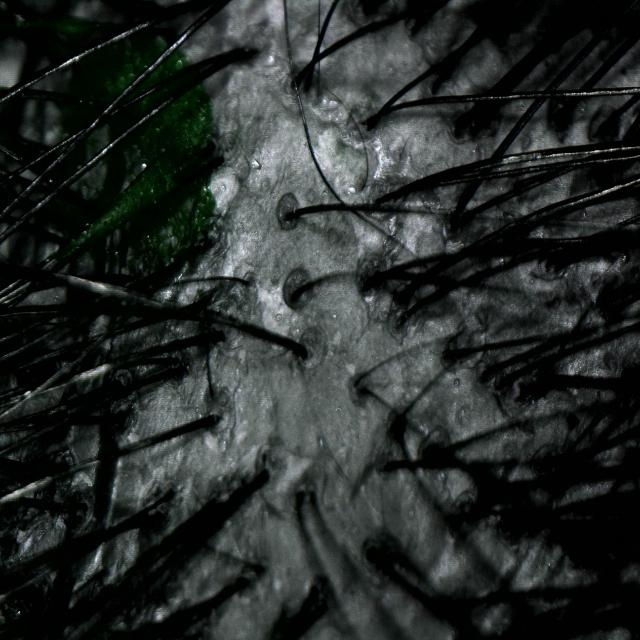roots: (359, 531, 382, 565), (109, 406, 133, 437), (157, 480, 179, 508), (253, 462, 273, 492), (374, 453, 398, 478), (290, 484, 310, 513), (531, 450, 550, 479), (232, 569, 252, 596), (202, 408, 223, 433), (476, 362, 496, 388), (442, 342, 462, 368), (250, 558, 270, 584), (303, 582, 322, 609), (306, 491, 325, 518), (314, 595, 333, 621), (359, 272, 379, 296), (168, 360, 188, 384), (452, 114, 470, 140), (292, 340, 312, 363), (407, 19, 426, 43), (494, 370, 513, 394), (166, 349, 185, 372), (349, 370, 367, 394), (399, 306, 417, 330), (202, 285, 220, 309), (288, 68, 306, 92), (553, 104, 571, 128), (444, 208, 463, 230), (595, 116, 613, 139), (372, 191, 389, 215), (286, 286, 304, 308), (426, 76, 444, 98), (363, 115, 380, 138), (236, 271, 253, 294), (388, 412, 409, 430), (204, 326, 221, 348), (453, 212, 471, 232), (358, 111, 375, 132), (357, 380, 374, 401), (300, 75, 316, 97), (227, 39, 243, 61), (281, 206, 298, 226), (394, 287, 410, 308), (245, 42, 260, 64), (356, 180, 371, 196)
